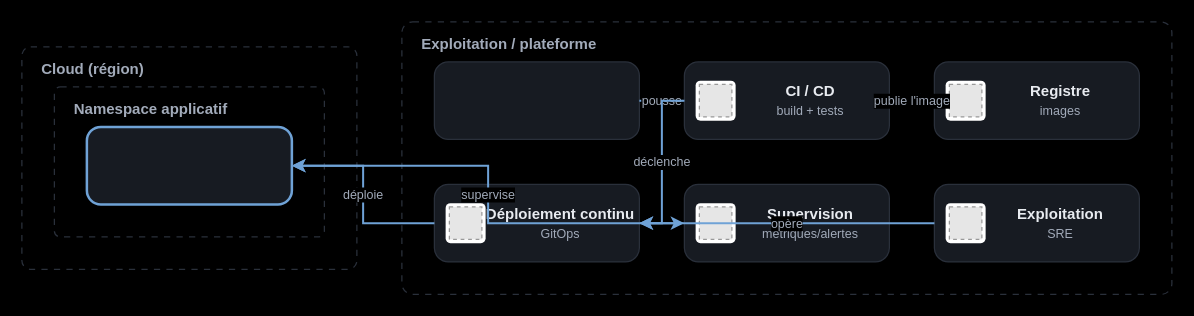
The diagram is 1194 pixels wide and 316 high, and some of its shapes have lost their labels. Grey dashed boxes stand in for pictures. Here are the shapes that lost their labels. From the top down, the centre of each, then its label:
pixel 536 100: Dépôt de code source
pixel 188 165: Service métier
